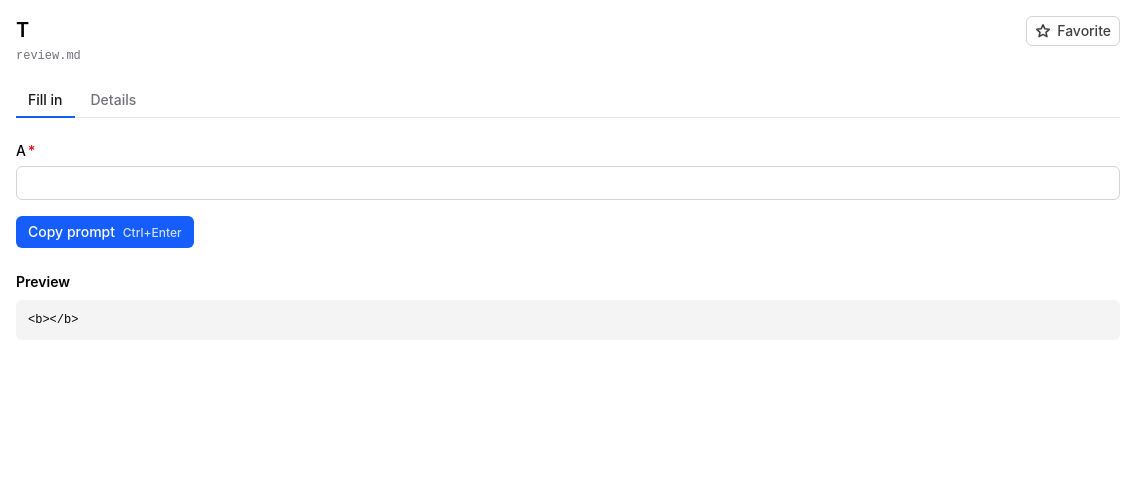
Test: DetailPane › lists problems, questions and the template as plain text on the Details tab
Click the tab "Details" at (113, 101), box left=78, top=84, right=148, bottom=118
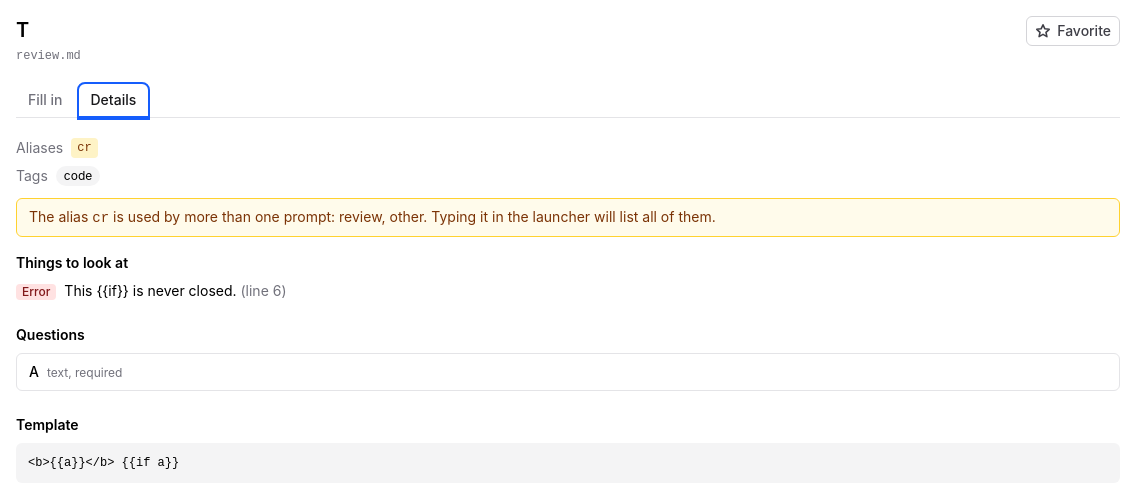
Now the text "This {{if}} is never closed." is shown, box left=64, top=282, right=236, bottom=299
Now the text "is used by more than one prompt" shows "review, other", box left=339, top=208, right=423, bottom=225
Now the text "code" is shown, box left=56, top=166, right=100, bottom=186
